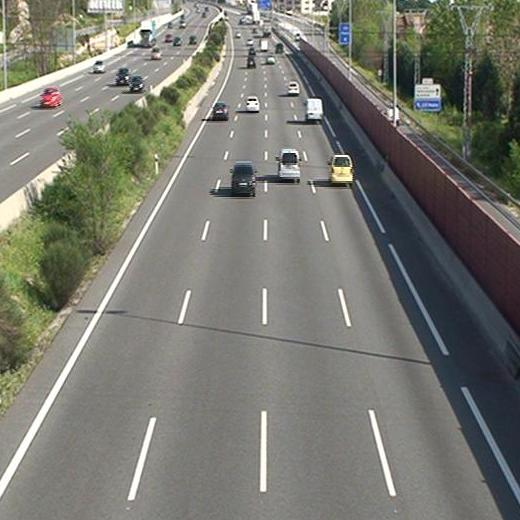car: (231, 161, 255, 194), (329, 156, 353, 182), (213, 102, 229, 119), (245, 96, 259, 112), (287, 81, 300, 95), (247, 56, 255, 68), (265, 56, 274, 64)
van: (277, 149, 300, 179), (306, 99, 324, 121)
